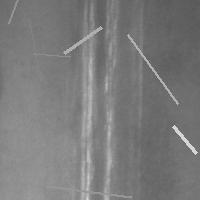scratches: (122, 29, 182, 108), (77, 1, 97, 198), (103, 1, 123, 198), (41, 181, 136, 200), (59, 22, 106, 58), (130, 13, 145, 120), (24, 14, 44, 80), (168, 121, 200, 158), (4, 0, 44, 28), (29, 49, 75, 62)
